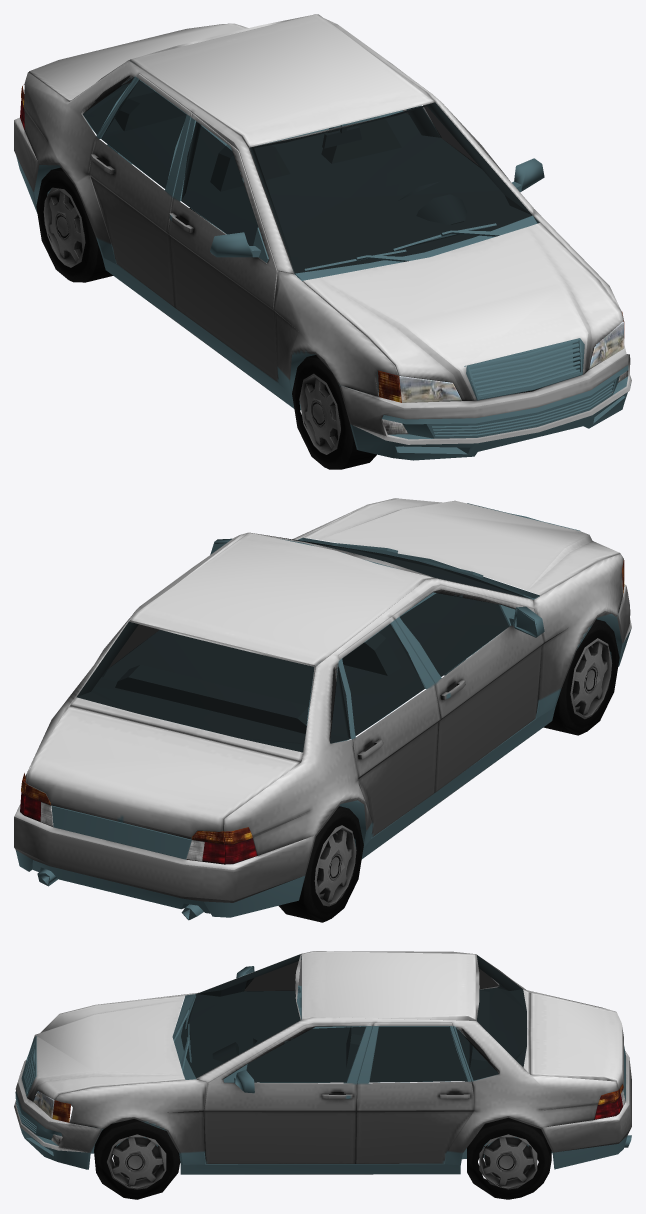
Rendered from t_sedan.glb.
3 renders of one model, top to bottom at view 1: azimuth 30°, elevation 25°; view 2: azimuth 150°, elevation 25°; view 3: azimuth 270°, elevation 25°, orthographic. The views are drawn at different scales.
Visible parts, largest first — view 1: Sedan Body_Body_0, Sedan Body_Glass_0, Wheel_A_Wheel_0, Sedan Body_Optics_0; view 2: Sedan Body_Body_0, Sedan Body_Glass_0, Wheel_A_Wheel_0, Sedan Body_Optics_0; view 3: Sedan Body_Body_0, Sedan Body_Glass_0, Wheel_A_Wheel_0, Sedan Body_Optics_0.
Boxes of the visible parts, bbox=[...] form: Sedan Body_Body_0: bbox=[14, 14, 631, 460]; Sedan Body_Glass_0: bbox=[83, 66, 532, 273]; Wheel_A_Wheel_0: bbox=[36, 167, 614, 469]; Sedan Body_Optics_0: bbox=[20, 84, 628, 434]; Sedan Body_Body_0: bbox=[14, 498, 631, 920]; Sedan Body_Glass_0: bbox=[76, 534, 531, 752]; Wheel_A_Wheel_0: bbox=[278, 619, 619, 922]; Sedan Body_Optics_0: bbox=[20, 560, 624, 864]; Sedan Body_Body_0: bbox=[14, 951, 631, 1174]; Sedan Body_Glass_0: bbox=[181, 954, 526, 1082]; Wheel_A_Wheel_0: bbox=[94, 1117, 551, 1199]; Sedan Body_Optics_0: bbox=[33, 1084, 625, 1145].
Size of the model in its own units: 1.96 by 1.35 by 4.38.
4 materials, 3 textured.
